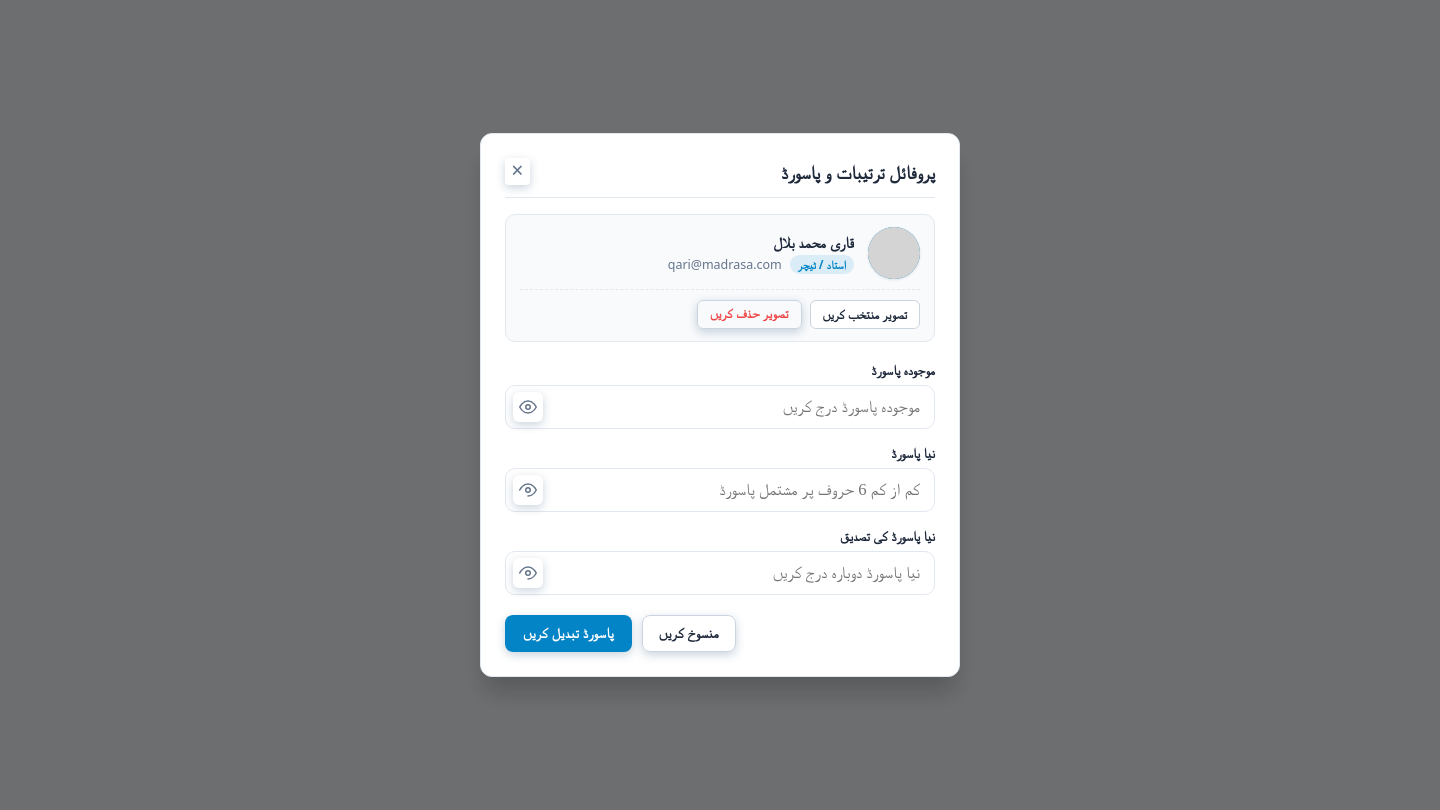
ProfileModal Component › allows removing an existing avatar image
What coordinates should you click on to do the following:
click the button "تصویر حذف کریں"
I would click on:
 (749, 314)
Its box is [697,300,802,328].
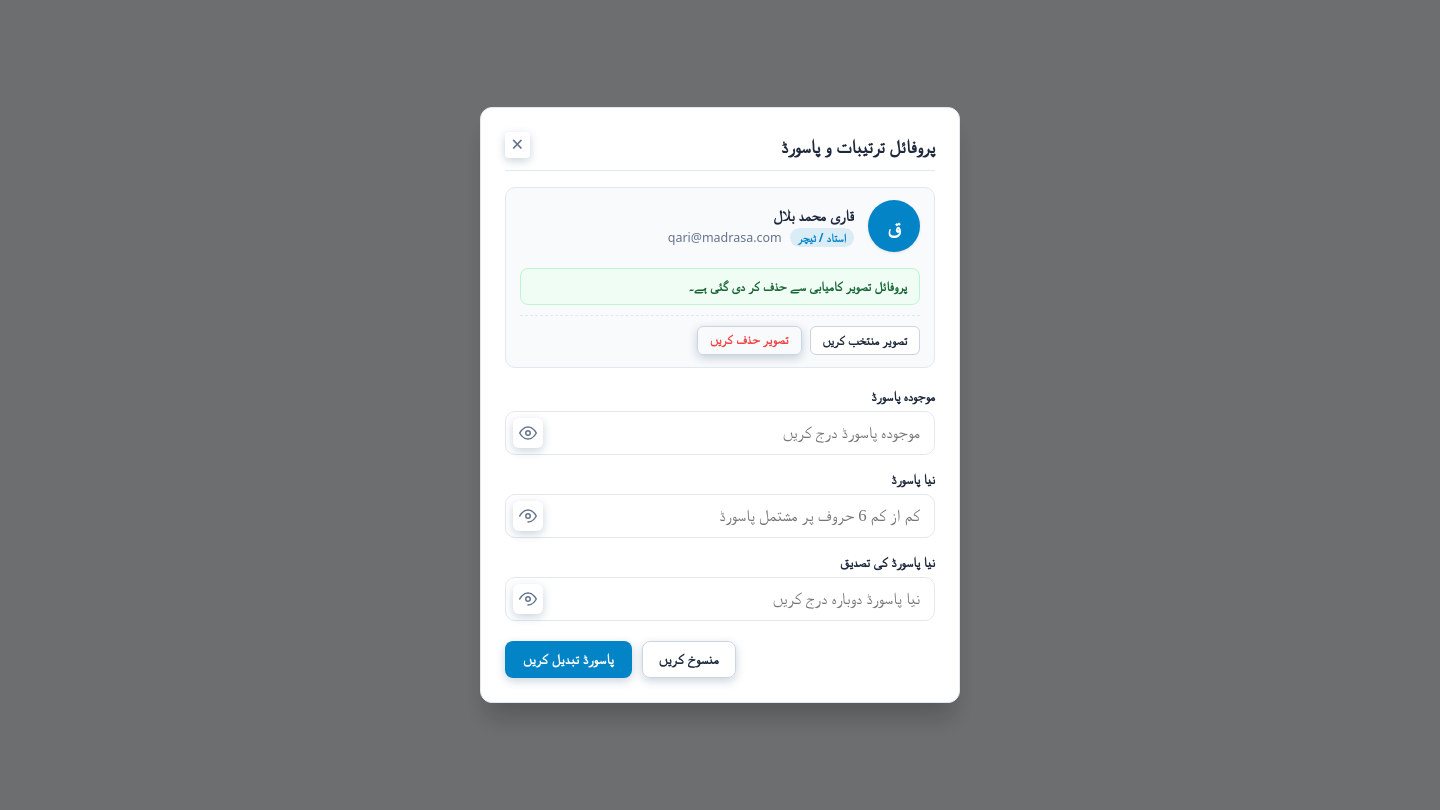
Check: the message reads "پروفائل تصویر کامیابی سے حذف کر دی گئی ہے۔", box [688,277,907,295]
